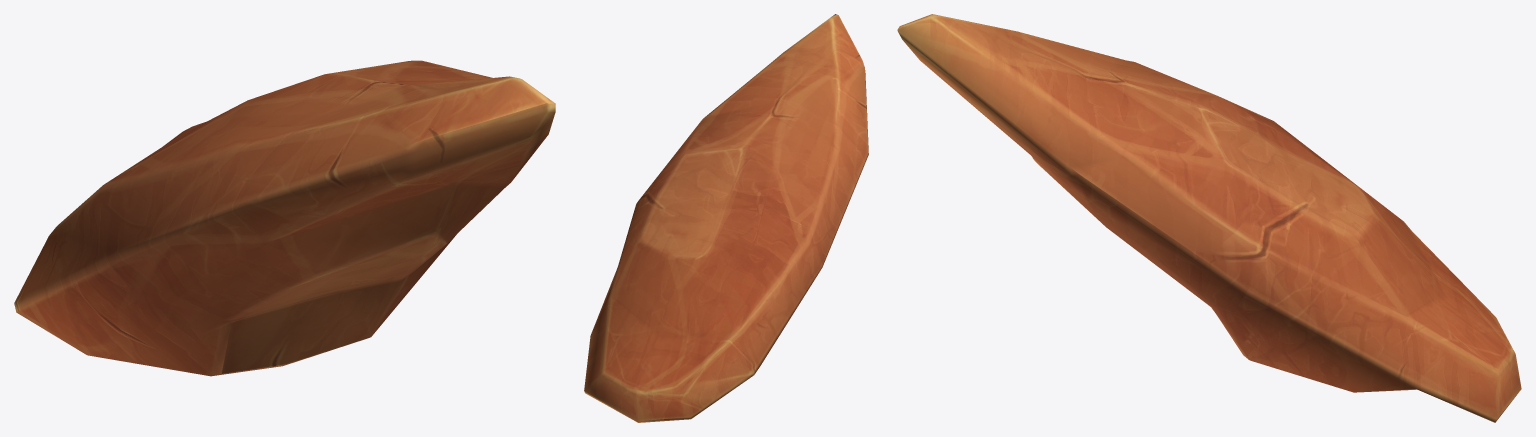
The model's file is DE_Rock_16.fbx.
3 views of the same model, side by side, from view 1: azimuth 30°, elevation 25°; view 2: azimuth 150°, elevation 25°; view 3: azimuth 270°, elevation 25° (orthographic). The views are drawn at different scales.
Parts seen in each view (by area): view 1: DE_Rock_16; view 2: DE_Rock_16; view 3: DE_Rock_16.
Part boxes in pixels (<box>): DE_Rock_16: <box>14,60,555,376</box>; DE_Rock_16: <box>584,14,868,422</box>; DE_Rock_16: <box>897,14,1521,422</box>.
Bounding box in the file's own units: 5.33 × 7.07 × 10.5.
